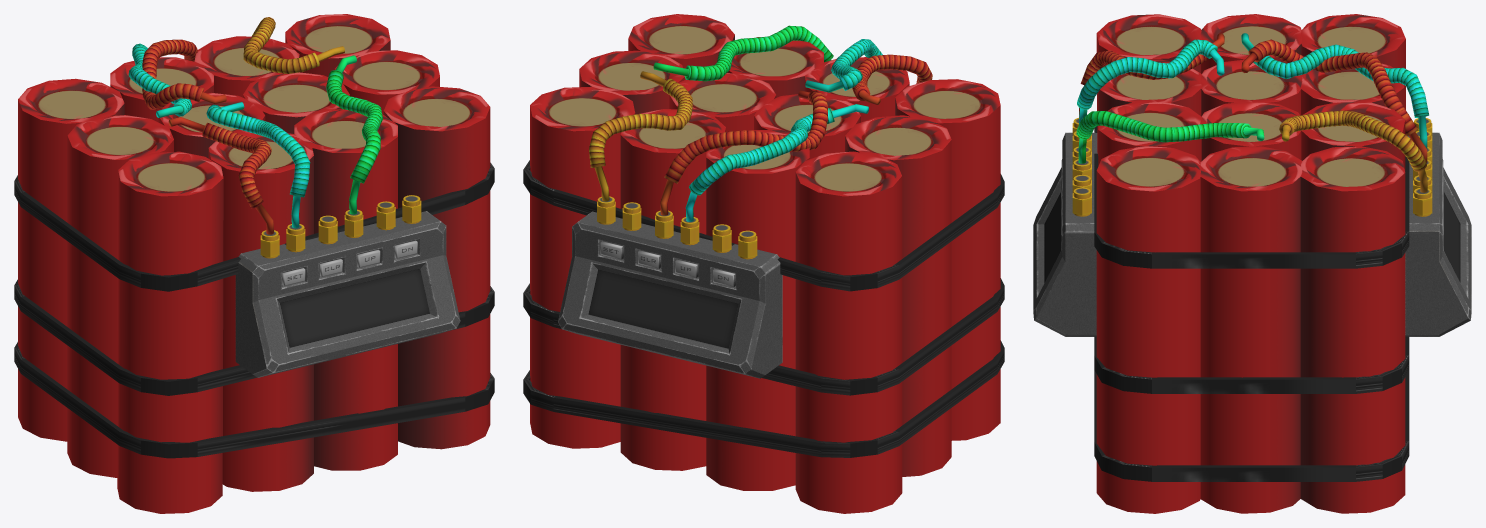
File: bomb_large.FBX
3 renders of one model, left to right at view 1: azimuth 30°, elevation 25°; view 2: azimuth 150°, elevation 25°; view 3: azimuth 270°, elevation 25°, orthographic.
Parts seen in each view (by area): view 1: bomb_large; view 2: bomb_large; view 3: bomb_large.
Boxes of the visible parts, box(x1,y1,x2,y2) form: bomb_large: box(14, 14, 494, 513); bomb_large: box(523, 14, 1004, 513); bomb_large: box(1033, 14, 1471, 513).
Size of the model in its own units: 56.07 by 51.16 by 57.28.
